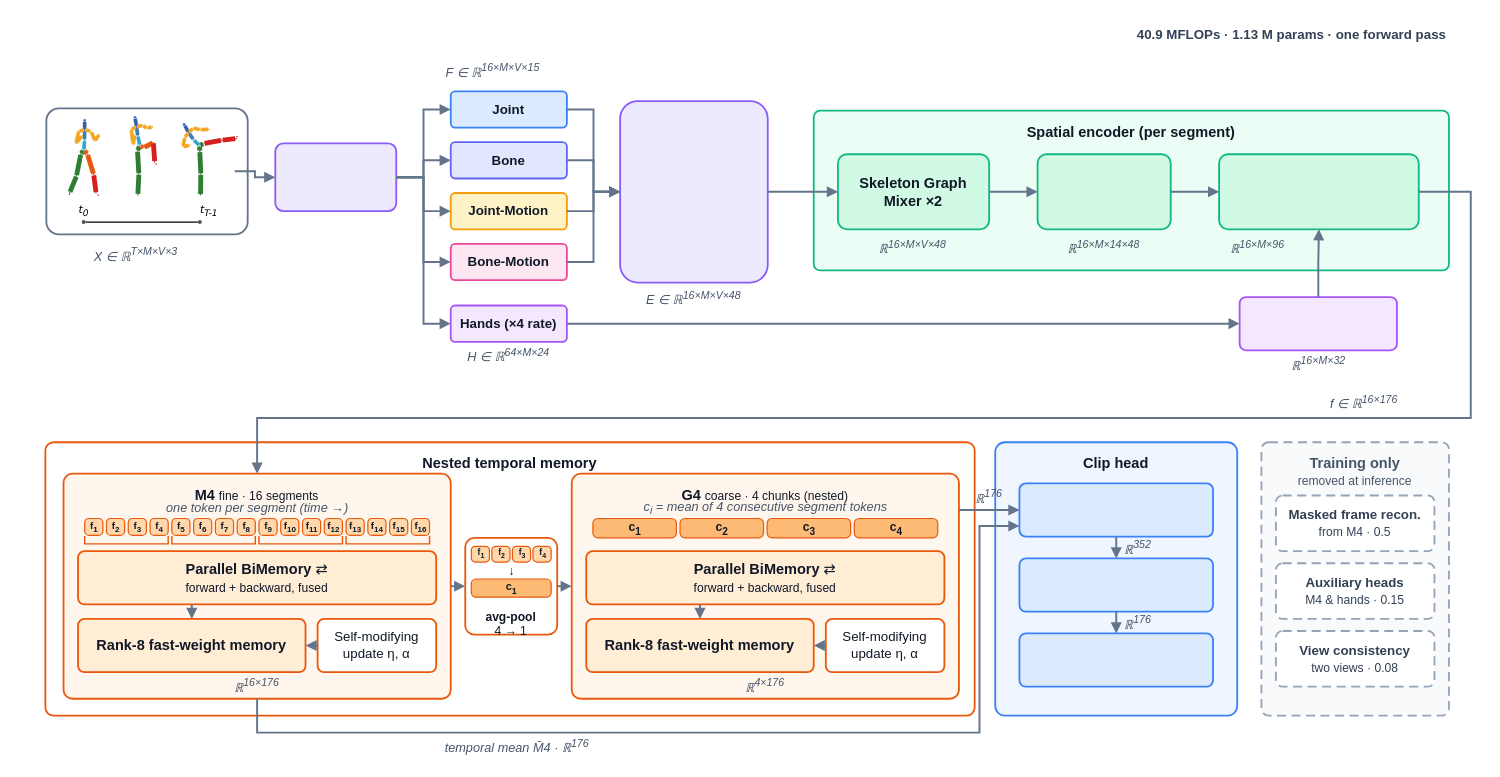
Some shapes in this 1500 by 777 pixel diagram are drawn without their labels. The shapes that lost their labels are listed below. From the top down, each one's centre as x and y in pixels, then its label:
At [335,177]: "Kinematic tokens 16 segments".
At [693,191]: "Early-Fusion Embedding pose ‖ motion one trunk".
At [1103,191]: "14 Parts / Person".
At [1318,191]: "Person Fusion + 2-Person Interaction".
At [1317,323]: "Hand BiGRU 64 sub-steps → 16".
At [1115,509]: "Level concat [ M̄4 ‖ Ḡ4 ]".
At [1115,584]: "Descriptor Dense · LN · GELU".
At [1115,659]: "Classifier logits ∈ ℝ C".
